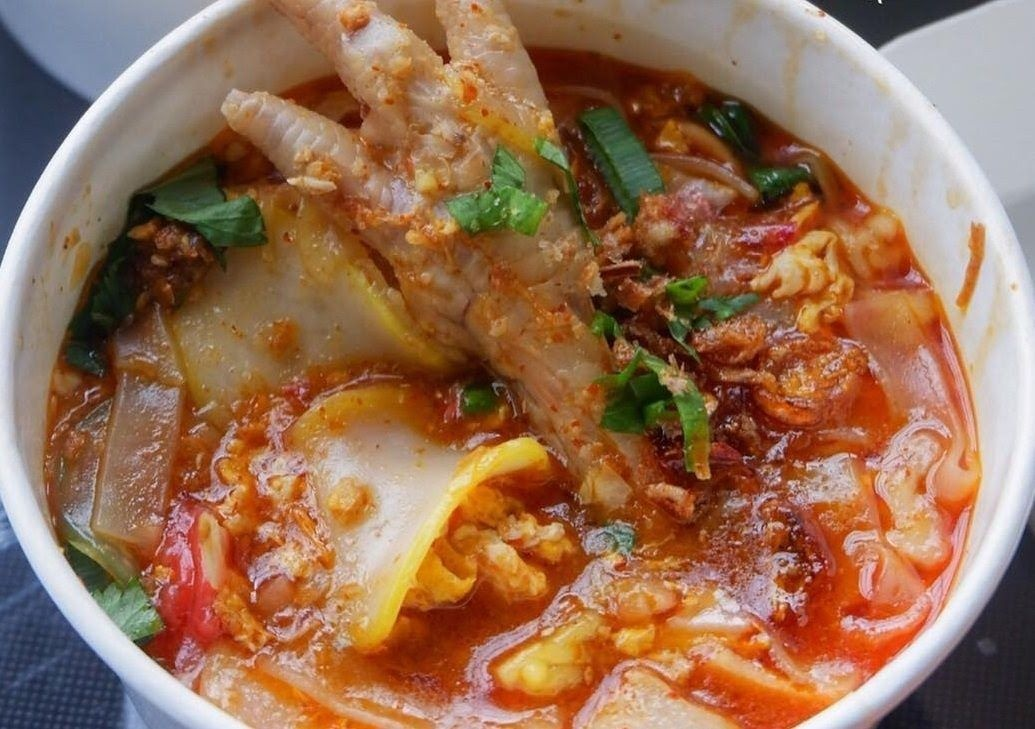seblak: (53, 2, 976, 714)
